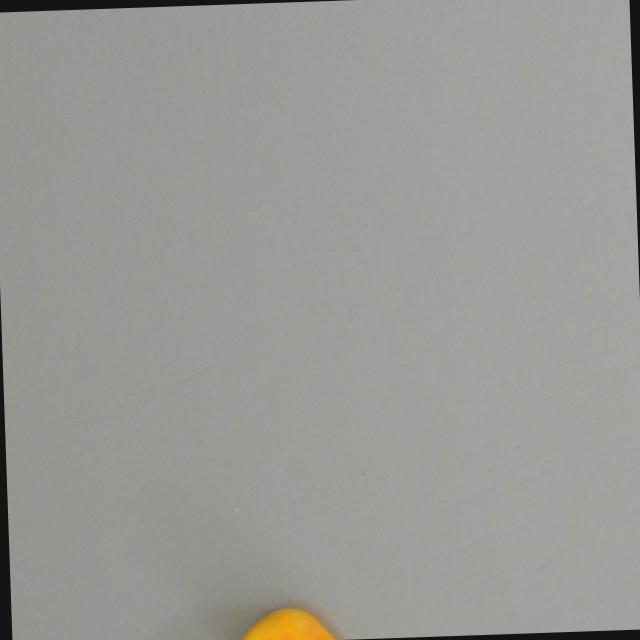entero: (218, 598, 374, 640)
